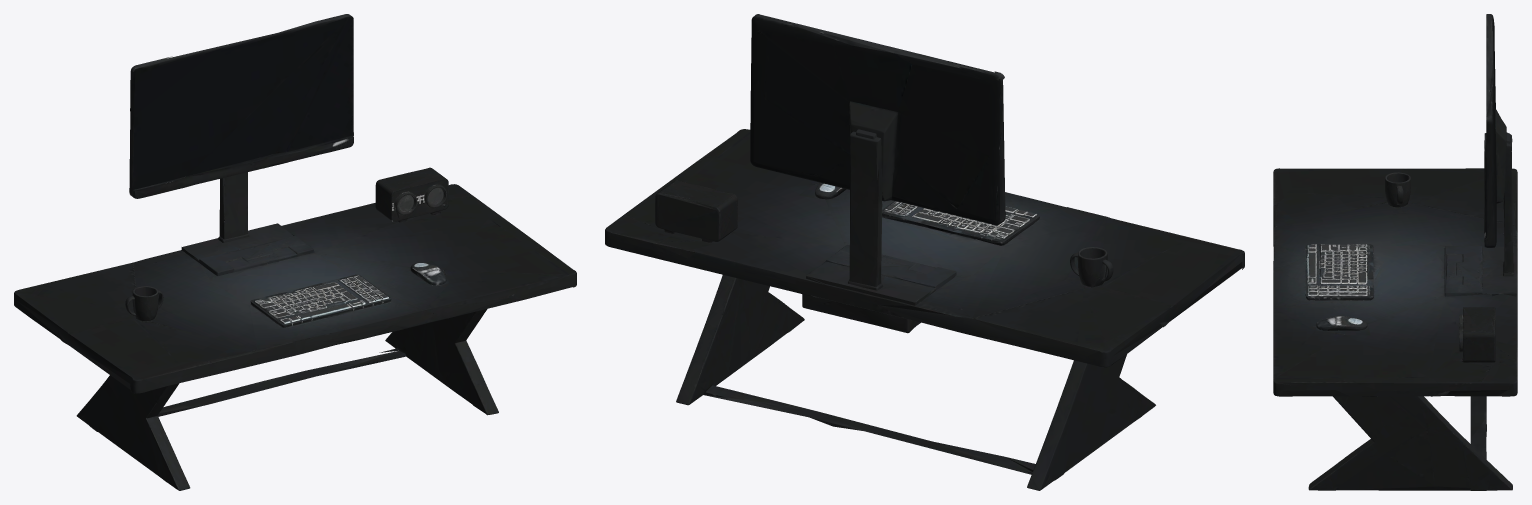
Rendered from desk.glb.
3 renders of one model, left to right at view 1: azimuth 30°, elevation 25°; view 2: azimuth 150°, elevation 25°; view 3: azimuth 270°, elevation 25°, orthographic. The views are drawn at different scales.
Size of the model in its own units: 1.9 by 1.42 by 0.9137.
Materials: 1 (1 with a texture image).
